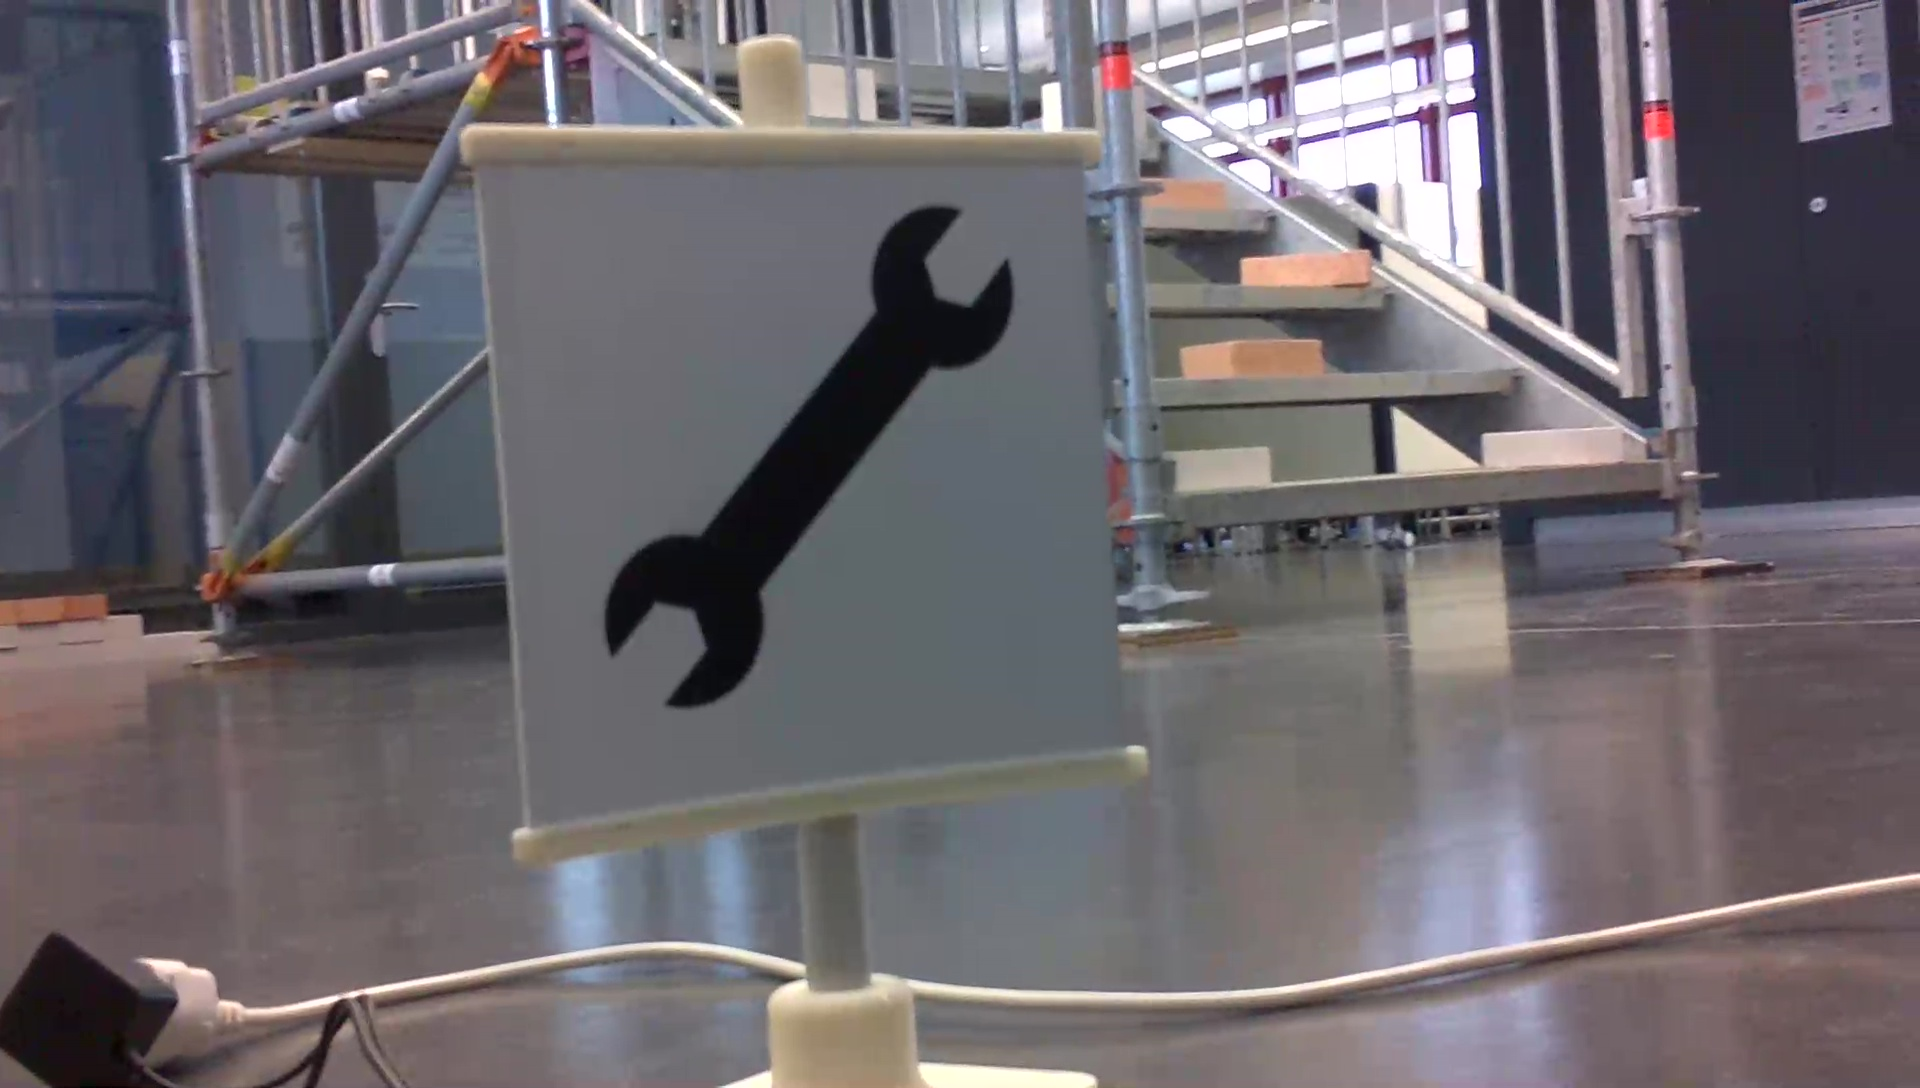brick: (1481, 429, 1618, 468), (1182, 340, 1317, 376), (1242, 251, 1370, 285), (1174, 448, 1269, 487), (1147, 175, 1225, 210)
edge: (1180, 463, 1662, 524), (1155, 371, 1532, 402), (1149, 282, 1393, 307), (1141, 204, 1276, 231)
wrench: (591, 190, 1019, 715)
